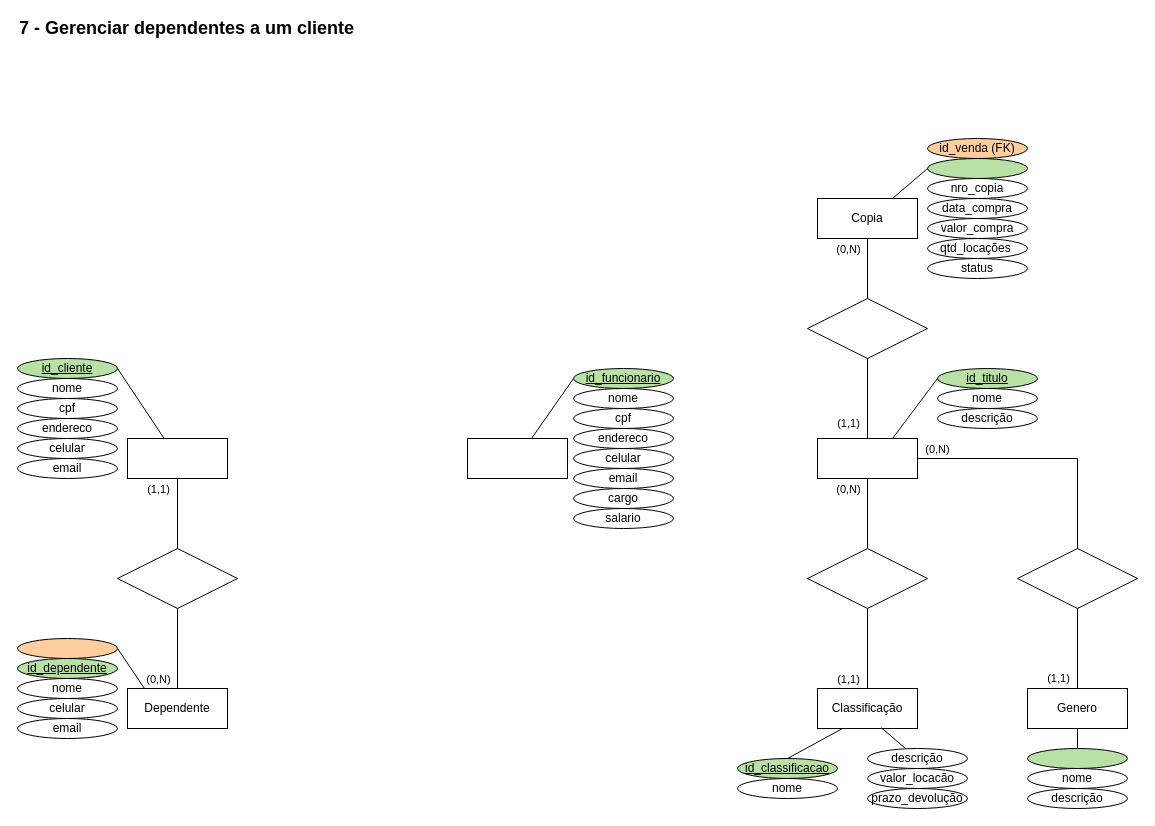
Image size: 1155x826. Some labels were removed from this diagram. Each missing label, with the centre of its shape:
Classifica: point (867, 578)
Cliente: point (177, 458)
Define: point (1077, 578)
Funcionario: point (517, 458)
id_cliente (FK): point (67, 648)
id_copia: point (977, 168)
id_genero: point (1077, 758)
Pertence: point (867, 328)
possui: point (177, 578)
Titulo: point (867, 458)
